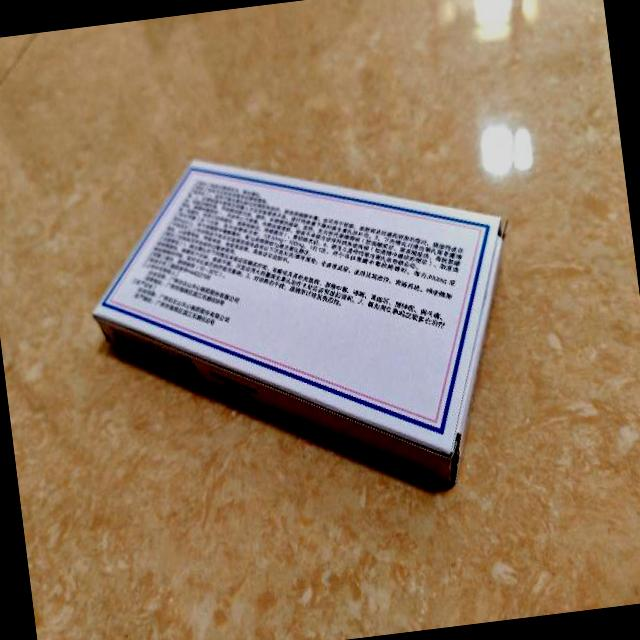box: (73, 120, 539, 524)
